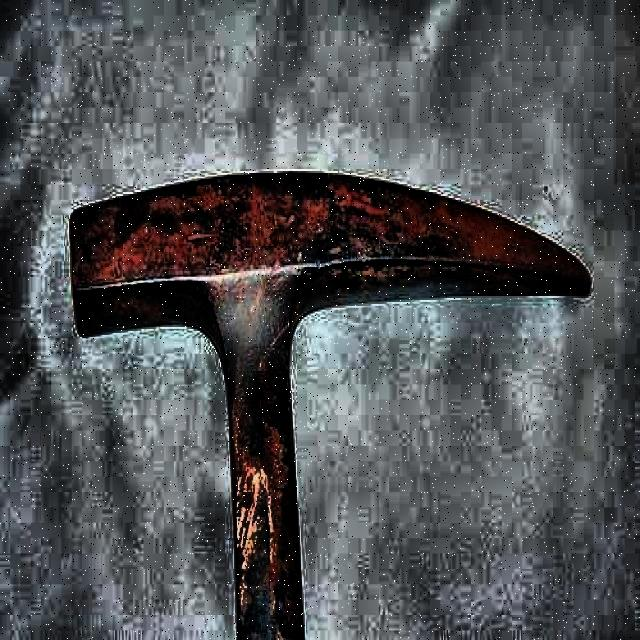hammer: (67, 169, 593, 639)
